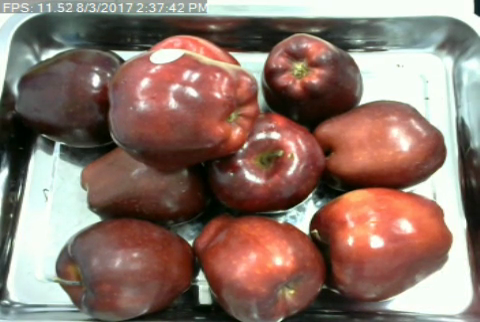Apple: (307, 184, 455, 305), (107, 46, 261, 161), (52, 214, 202, 321), (190, 212, 327, 322), (310, 98, 449, 192), (207, 110, 328, 215), (78, 138, 216, 226), (14, 45, 125, 149), (262, 31, 365, 126)
